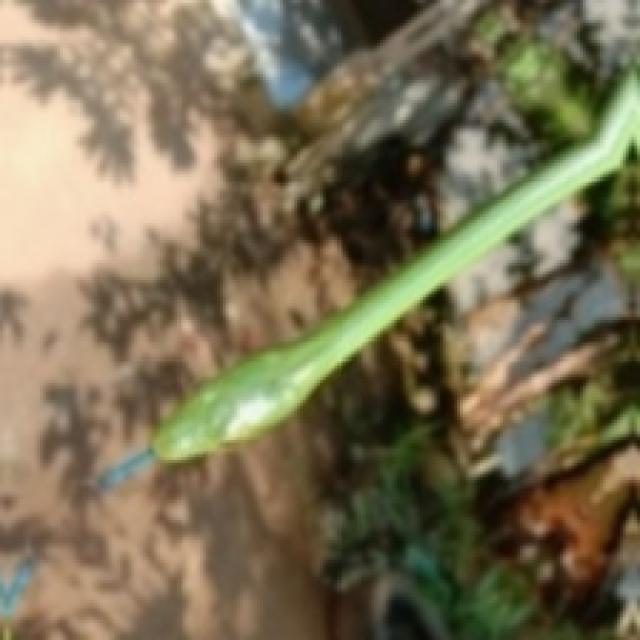red-tailed green ratsnake: (98, 73, 640, 489)
